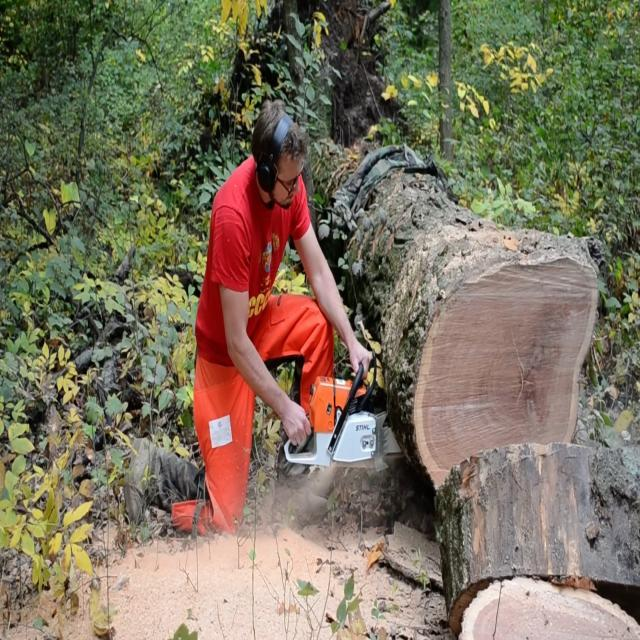Chainsaw: (262, 350, 416, 478)
